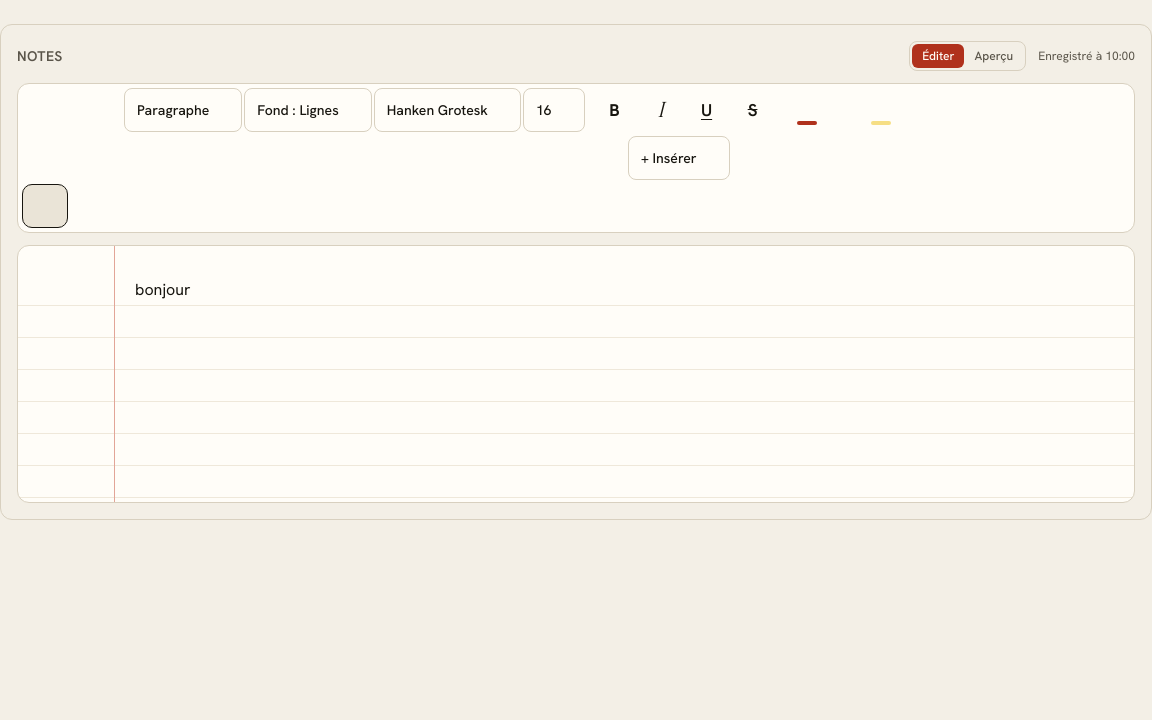
FormattingToolbar (YC-41) › style menu › opens on the current style, applies a choice, and closes
Expected: the field named "Note de la vidéo" reads "bonjour", left=135, top=279, right=190, bottom=300
Click the button with aria-label "Style de paragraphe : Paragraphe". click: {"x": 183, "y": 110}
box: left=124, top=88, right=242, bottom=132
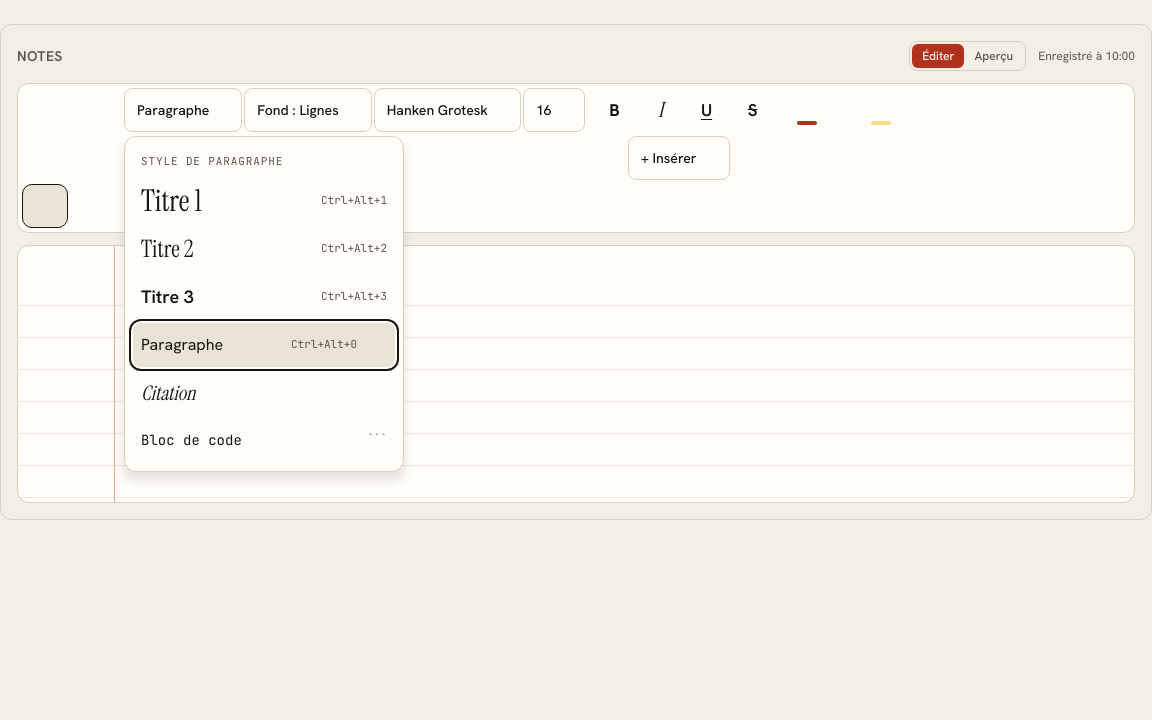
Expected: the menu item "Paragraphe Ctrl+Alt+0" is shown, left=133, top=322, right=395, bottom=366
Click the menu item "Titre 2 Ctrl+Alt+2". click: {"x": 167, "y": 248}
box: left=133, top=226, right=395, bottom=270
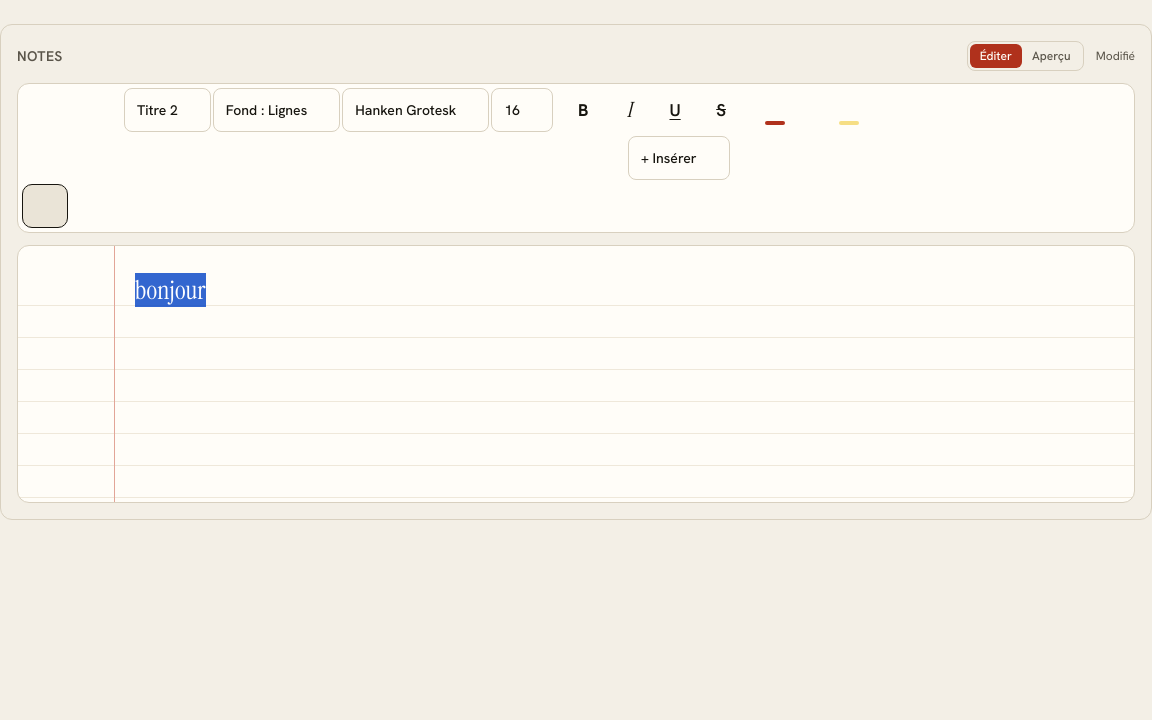
Expected: the menu is gone
